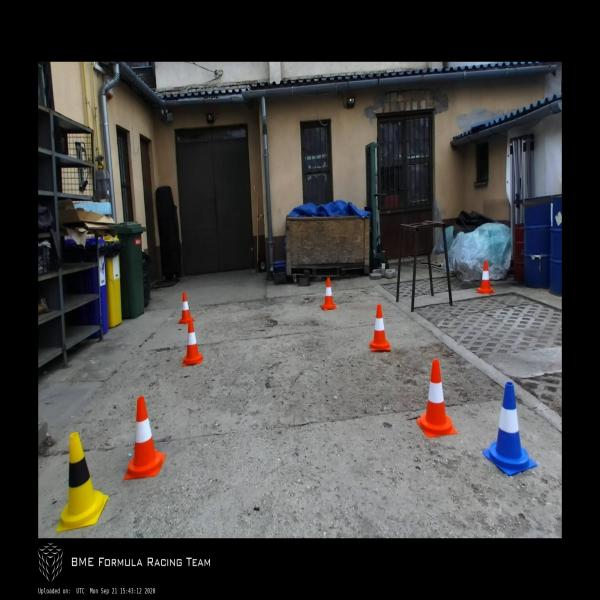blue_cone: (482, 381, 537, 476)
orange_cone: (124, 396, 167, 480), (416, 360, 457, 438), (369, 304, 391, 351), (183, 320, 203, 366), (476, 261, 494, 294), (178, 292, 196, 324), (321, 277, 337, 311)
yellow_cone: (56, 432, 108, 532)
